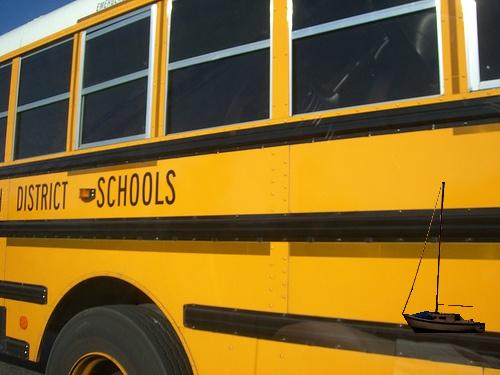tampered: (403, 183, 485, 333)
